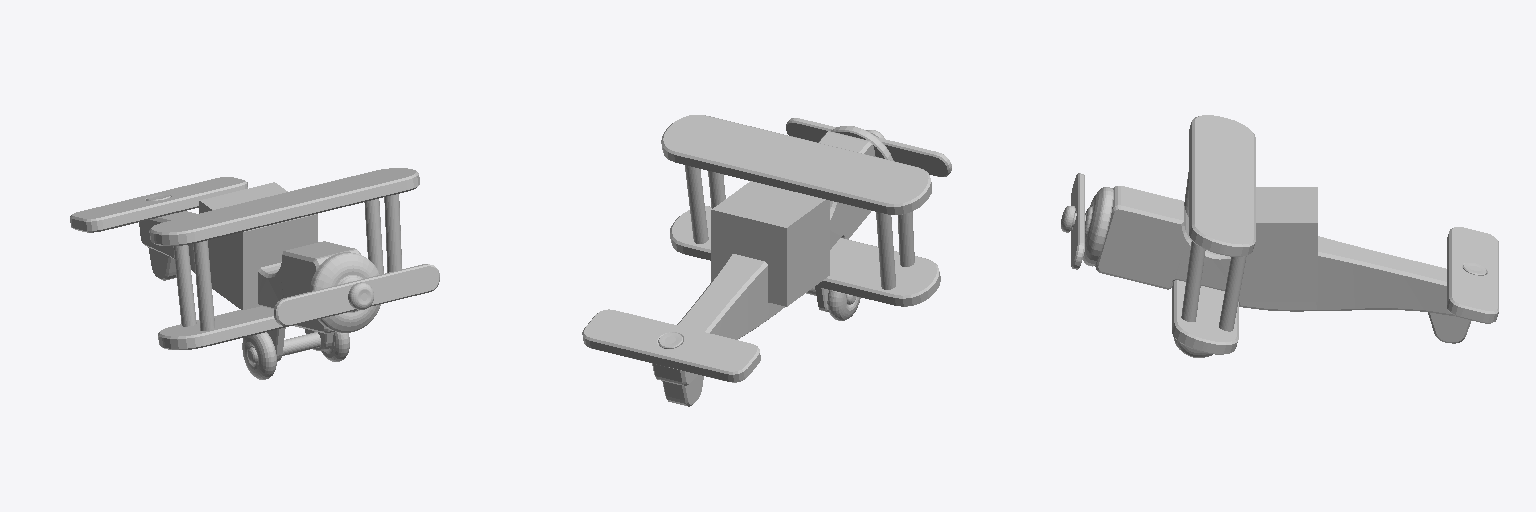
3 views of the same model, side by side, from view 1: azimuth 30°, elevation 25°; view 2: azimuth 150°, elevation 25°; view 3: azimuth 270°, elevation 25° (orthographic).
Visible parts, largest first — view 1: basic_plane, Cube; view 2: basic_plane, Cube; view 3: basic_plane, Cube.
Boxes of the visible parts, box(x1,y1,x2,y2) form: basic_plane: box(70, 168, 439, 379); Cube: box(199, 182, 317, 309); basic_plane: box(582, 115, 951, 406); Cube: box(711, 181, 829, 306); basic_plane: box(1061, 115, 1498, 357); Cube: box(1238, 187, 1317, 301).
Size of the model in its own units: 6.88 by 4.23 by 10.08.